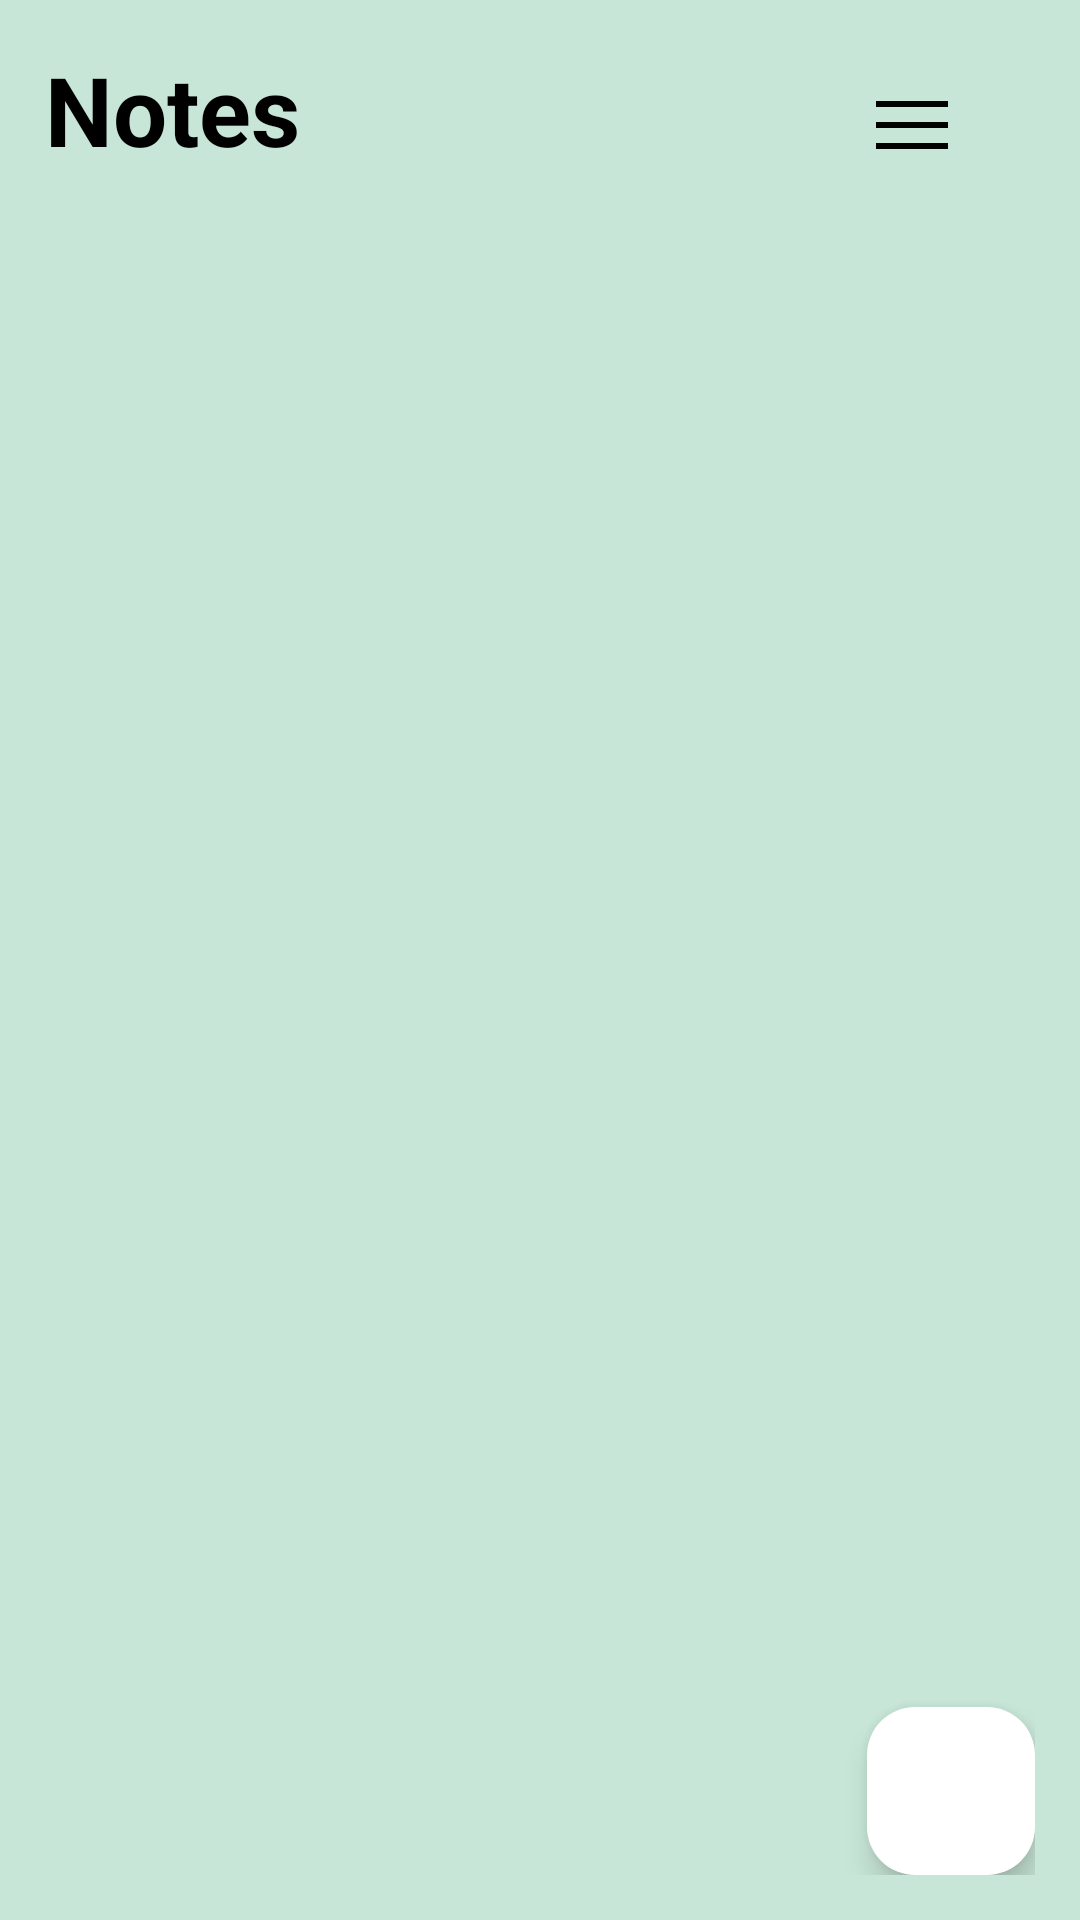

Named icons in this screenshot (1080 × 1920) and their centers, [x,y]:
menu: [912,125]
